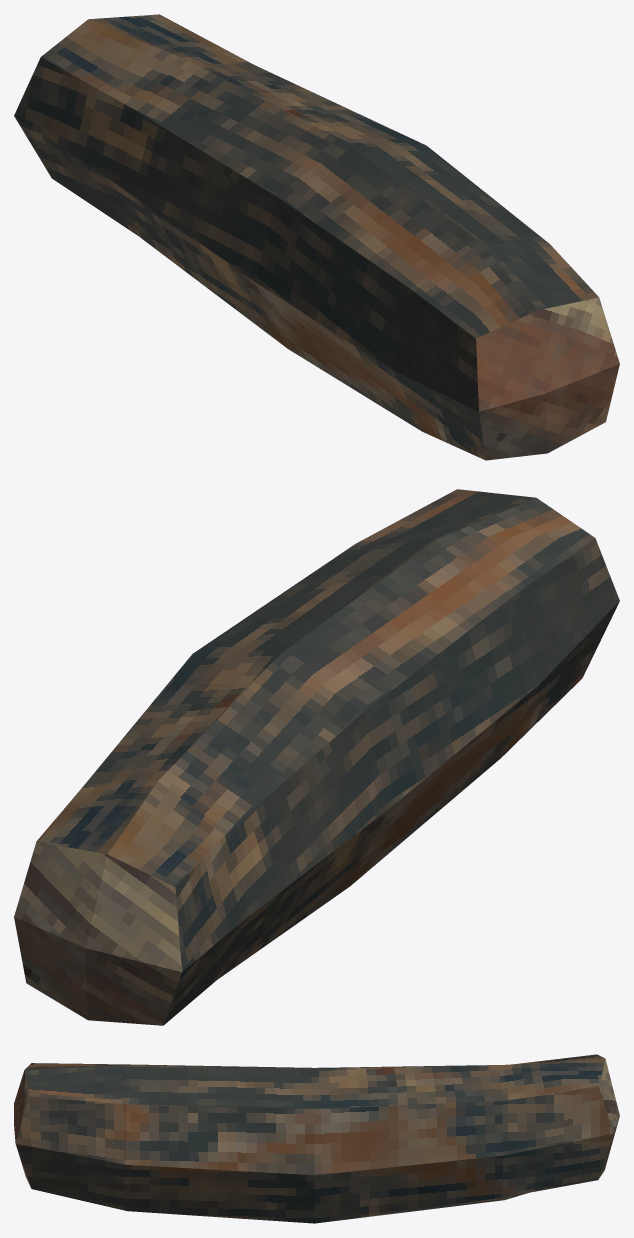
File: Timber.gltf
3 renders of one model, top to bottom at view 1: azimuth 30°, elevation 25°; view 2: azimuth 150°, elevation 25°; view 3: azimuth 270°, elevation 25°, orthographic. The views are drawn at different scales.
Parts seen in each view (by area): view 1: Timber; view 2: Timber; view 3: Timber.
Boxes of the visible parts, left/top/right/bottom form: Timber: left=14, top=14, right=619, bottom=460; Timber: left=14, top=489, right=619, bottom=1025; Timber: left=14, top=1054, right=619, bottom=1223.
Bounding box in the file's own units: 0.1856 × 0.1602 × 0.5839.
1 material, 1 textured.
